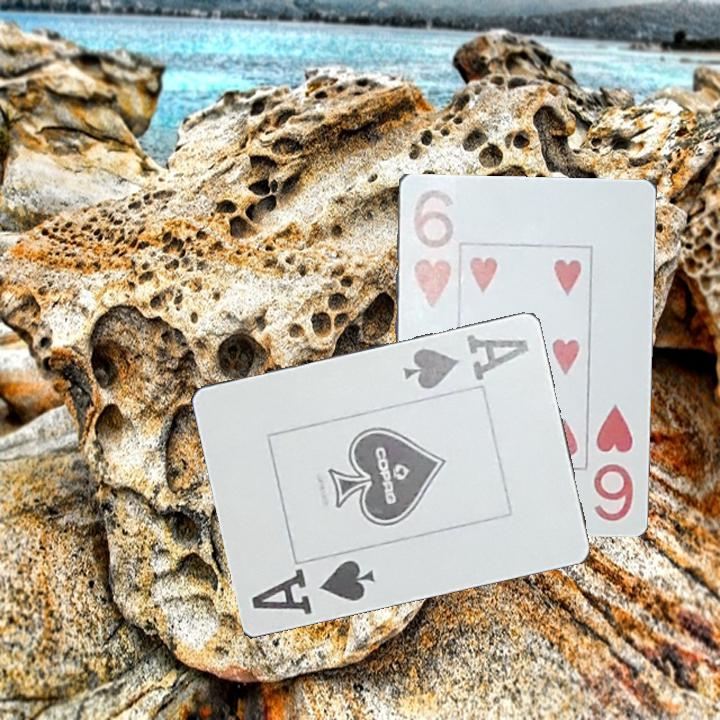6h: (405, 186, 457, 311), (589, 400, 636, 524)
As: (247, 557, 379, 619), (400, 331, 532, 393)
